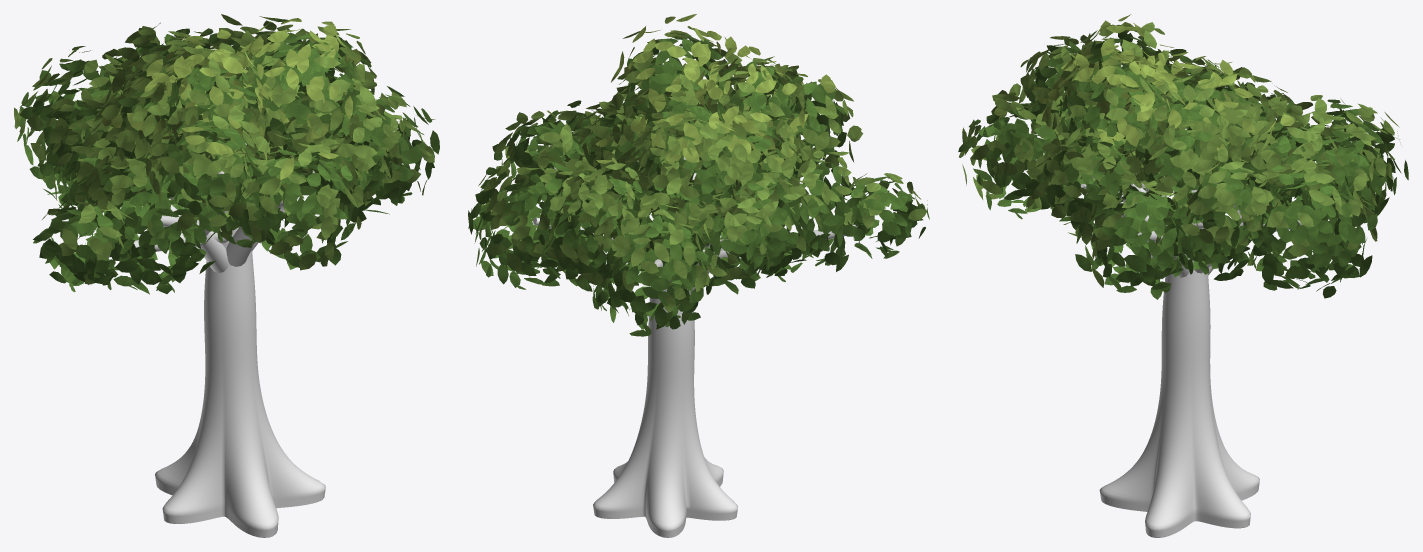
The model's file is tree.fbx.
3 views of the same model, side by side, from view 1: azimuth 30°, elevation 25°; view 2: azimuth 150°, elevation 25°; view 3: azimuth 270°, elevation 25° (orthographic). The views are drawn at different scales.
Visible parts, largest first — view 1: Leaves, Body; view 2: Leaves, Body; view 3: Leaves, Body.
Boxes of the visible parts, x1,y1,x2,y2 form: Leaves: (14,14,439,294); Body: (108,143,325,537); Leaves: (468,14,929,336); Body: (533,136,857,537); Leaves: (958,14,1408,299); Body: (1035,128,1302,537).
Bounding box in the file's own units: 5.68 × 6.58 × 5.79.
